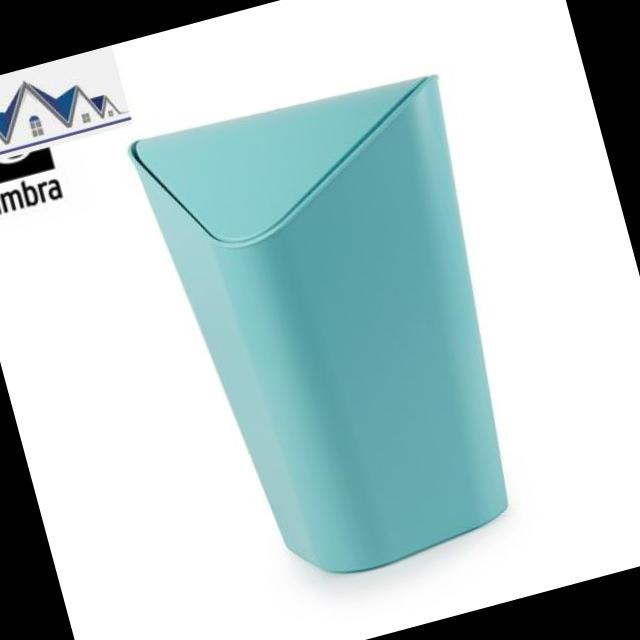dustbin: (110, 39, 576, 614)
